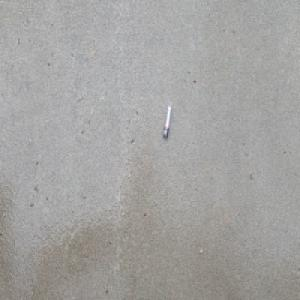Battery: (162, 105, 171, 139)
